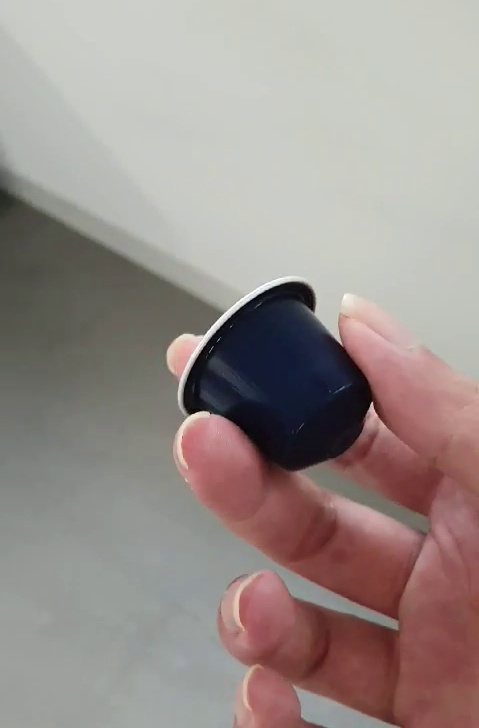capsule_1: (179, 275, 373, 474)
